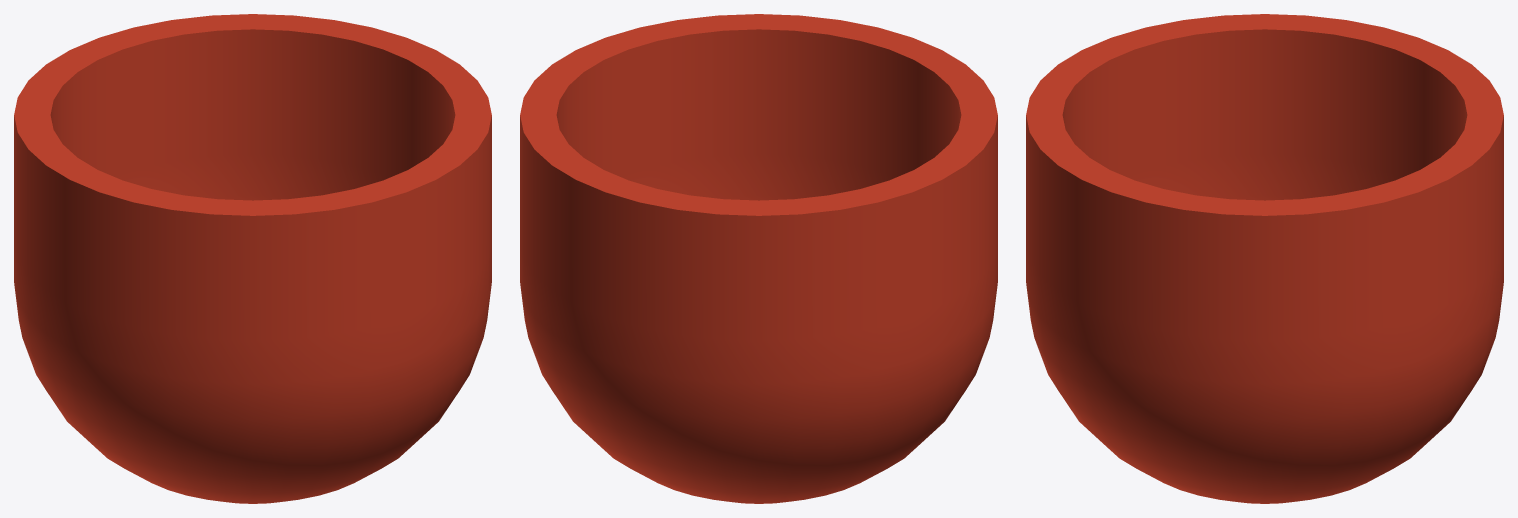
The model's file is cUP.fbx.
3 renders of one model, left to right at view 1: azimuth 30°, elevation 25°; view 2: azimuth 150°, elevation 25°; view 3: azimuth 270°, elevation 25°, orthographic.
Visible parts, largest first — view 1: Capsule; view 2: Capsule; view 3: Capsule.
Part boxes in pixels (x1,y1,x2,y2): Capsule: [14, 14, 491, 503]; Capsule: [520, 14, 997, 503]; Capsule: [1026, 14, 1503, 503].
Size of the model in its own units: 118 by 99.61 by 118.
